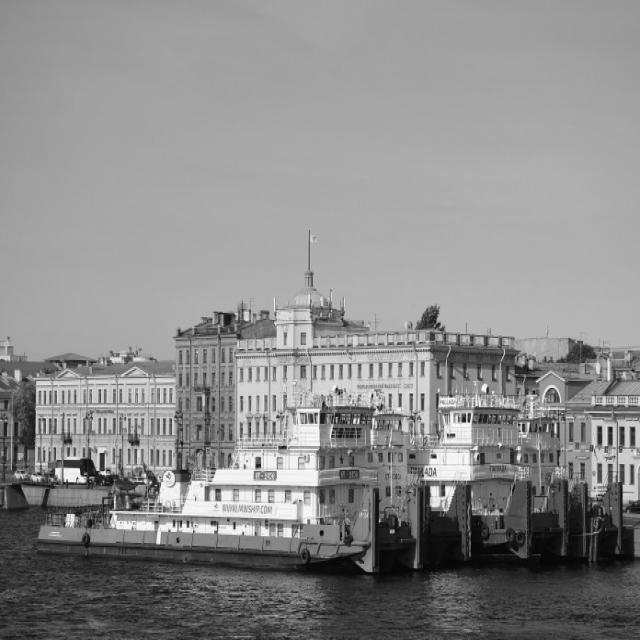tugboat: (32, 388, 434, 584)
